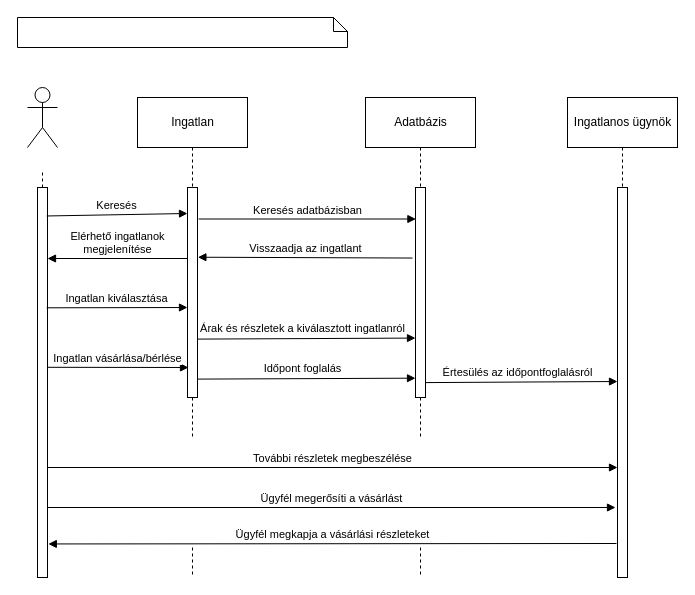
The diagram is 695 pixels wide and 595 high, and some of its shapes have lost their labels. The shapes that lost their labels are listed below. From the top down, each one's centre as x and y in pixels, then its label:
At (x=182, y=32): "UniHome Sequence Diagram".
At (x=42, y=117): "Ügyfél".
